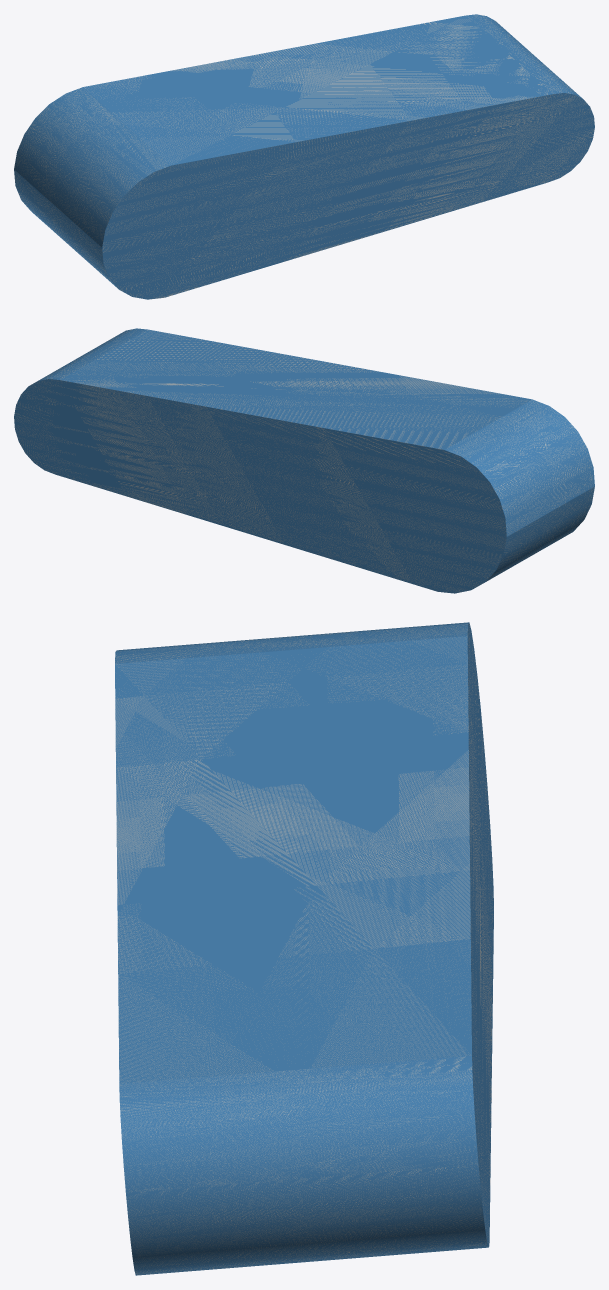
File: p1LeftFlipper.dae
3 renders of one model, top to bottom at view 1: azimuth 30°, elevation 25°; view 2: azimuth 150°, elevation 25°; view 3: azimuth 270°, elevation 25°, orthographic. The views are drawn at different scales.
Visible parts, largest first — view 1: SketchUp; view 2: SketchUp; view 3: SketchUp.
Part boxes in pixels (x1,y1,x2,y2): SketchUp: (14, 14, 594, 299); SketchUp: (14, 328, 594, 593); SketchUp: (115, 622, 493, 1275).
Size of the model in its own units: 443 by 148 by 130.
